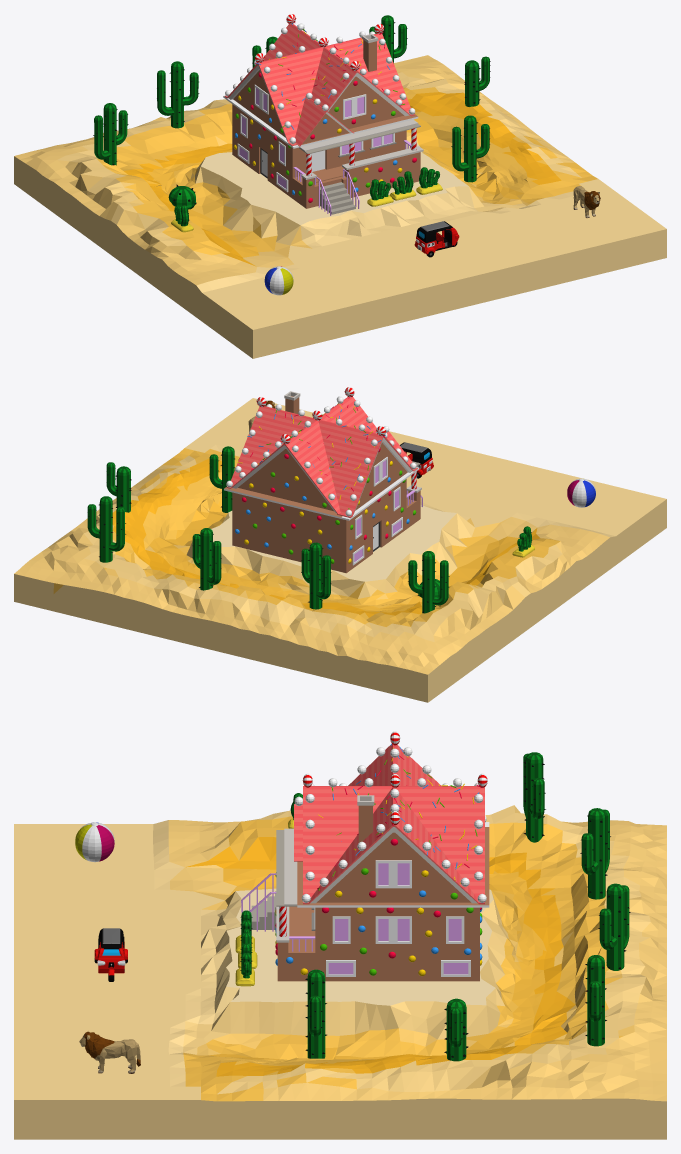
The picture shows the model from 3 angles, top to bottom: view 1: azimuth 30°, elevation 25°; view 2: azimuth 150°, elevation 25°; view 3: azimuth 270°, elevation 25°; orthographic projection. The views are drawn at different scales.
Visible parts, largest first — view 1: Cube.001, Cube.1203, Cylinder.044, Cylinder.037, Cylinder.045, VEHICLES_TUC_TUC, Cylinder.038, Cylinder.042, OBJRANDOM_BEACHBALL, ANIMAL_LEON, Cylinder.039, Cylinder.041; view 2: Cube.001, Cube.1203, Cylinder.042, Cylinder.045, Cylinder.044, Cylinder.043, Cylinder.037, Cylinder.038, OBJRANDOM_BEACHBALL, VEHICLES_TUC_TUC; view 3: Cube.001, Cube.1203, Cylinder.043, Cylinder.044, Cylinder.045, Cylinder.037, Cylinder.042, ANIMAL_LEON, VEHICLES_TUC_TUC, Cylinder.038, OBJRANDOM_BEACHBALL, Cylinder.041.
Part boxes in pixels (box(x1,y1,x2,y2)): Cube.001: box(14, 55, 666, 358); Cube.1203: box(223, 14, 423, 215); Cylinder.044: box(157, 61, 199, 128); Cylinder.037: box(451, 115, 489, 182); Cylinder.045: box(93, 103, 128, 165); VEHICLES_TUC_TUC: box(414, 221, 459, 257); Cylinder.038: box(464, 56, 490, 106); Cylinder.042: box(369, 15, 407, 63); OBJRANDOM_BEACHBALL: box(264, 266, 293, 295); ANIMAL_LEON: box(573, 186, 600, 217); Cylinder.039: box(367, 179, 393, 206); Cylinder.041: box(416, 167, 442, 194); Cube.001: box(14, 398, 666, 702); Cube.1203: box(224, 387, 422, 573); Cylinder.042: box(87, 496, 125, 562); Cylinder.045: box(408, 551, 449, 613); Cylinder.044: box(301, 542, 331, 609); Cylinder.043: box(192, 528, 221, 590); Cylinder.037: box(209, 446, 239, 512); Cylinder.038: box(106, 462, 131, 512); OBJRANDOM_BEACHBALL: box(567, 478, 595, 507); VEHICLES_TUC_TUC: box(400, 442, 433, 478); Cube.001: box(14, 805, 666, 1139); Cube.1203: box(241, 731, 489, 981); Cylinder.043: box(598, 883, 630, 970); Cylinder.044: box(580, 808, 610, 899); Cylinder.045: box(523, 752, 545, 842); Cylinder.037: box(305, 969, 326, 1058); Cylinder.042: box(585, 955, 606, 1046); ANIMAL_LEON: box(79, 1031, 140, 1073); VEHICLES_TUC_TUC: box(94, 928, 127, 981); Cylinder.038: box(444, 998, 468, 1061); OBJRANDOM_BEACHBALL: box(75, 822, 114, 862); Cylinder.041: box(235, 943, 254, 986).
Bounding box in the file's own units: 4002 × 1729 × 4001.
41 materials, 3 textured.
